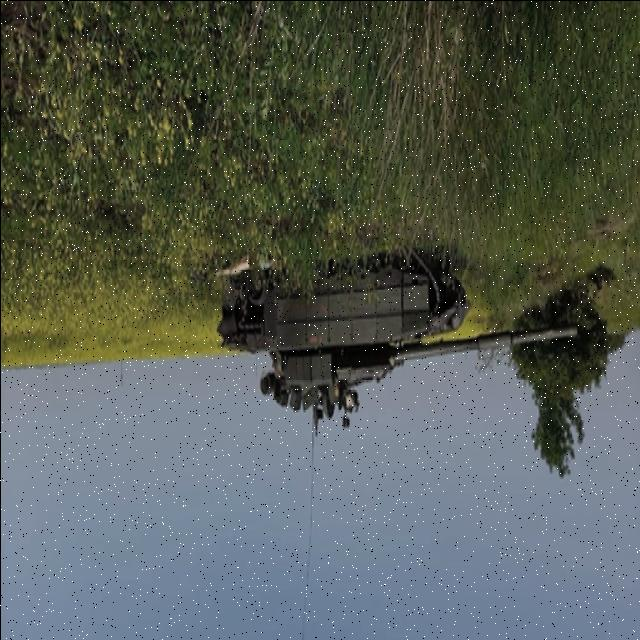TANK: (218, 258, 578, 420)
